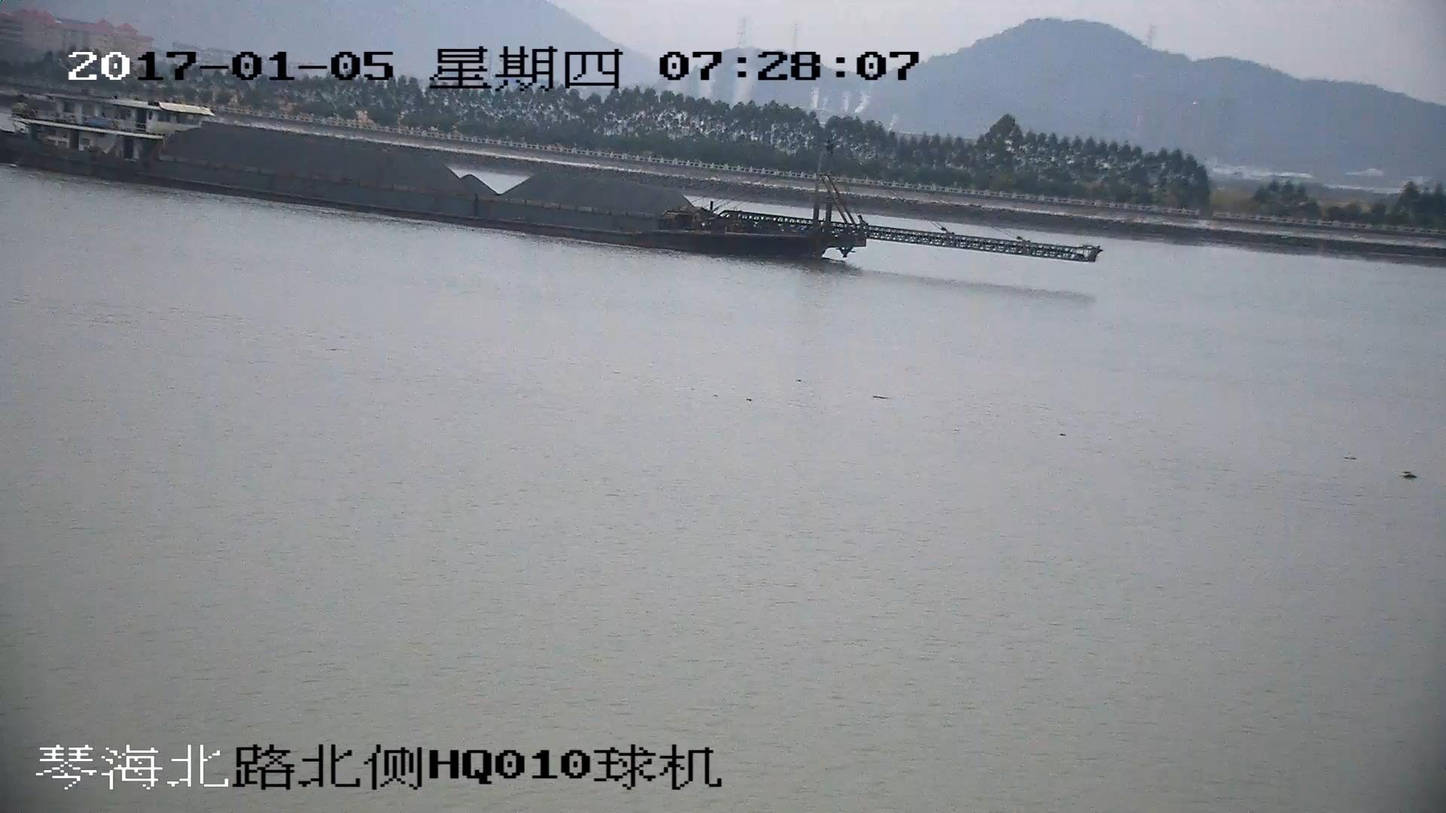ore carrier: (0, 79, 1088, 264)
